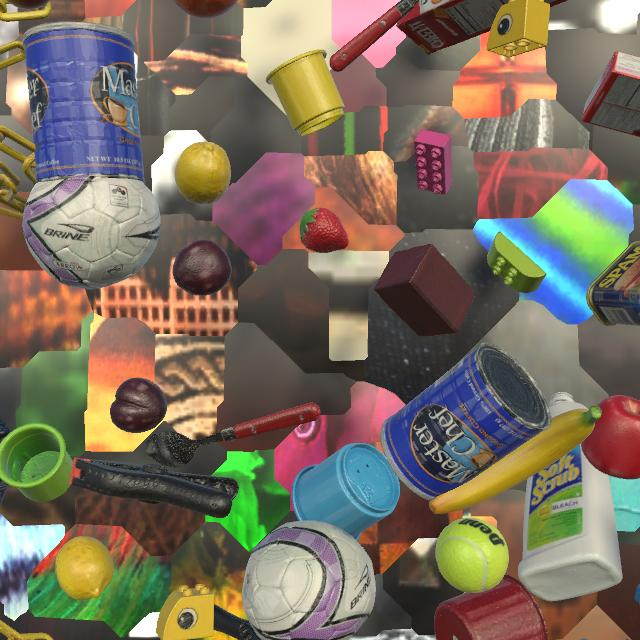ycb_002_master_chef_can: (380, 342, 552, 501), (22, 21, 146, 184), (580, 638, 589, 640)
ycb_003_cracker_box: (396, 0, 568, 55)
ycb_009_gelatin_box: (582, 51, 640, 137)
ycb_010_potted_meat_can: (586, 241, 640, 326)
ycb_011_banana: (429, 406, 602, 514)
ycb_012_strawberry: (299, 208, 349, 253)
ycb_013_apple: (581, 395, 640, 479)
ycb_014_lemon: (55, 536, 114, 600), (175, 142, 231, 205)
ycb_015_peach: (6, 0, 50, 9)
ycb_017_orange: (173, 0, 238, 19)
ycb_018_plum: (173, 239, 232, 296), (110, 378, 167, 433)
